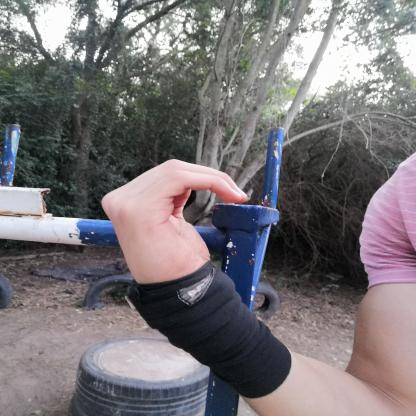HAA: (83, 147, 270, 302)
